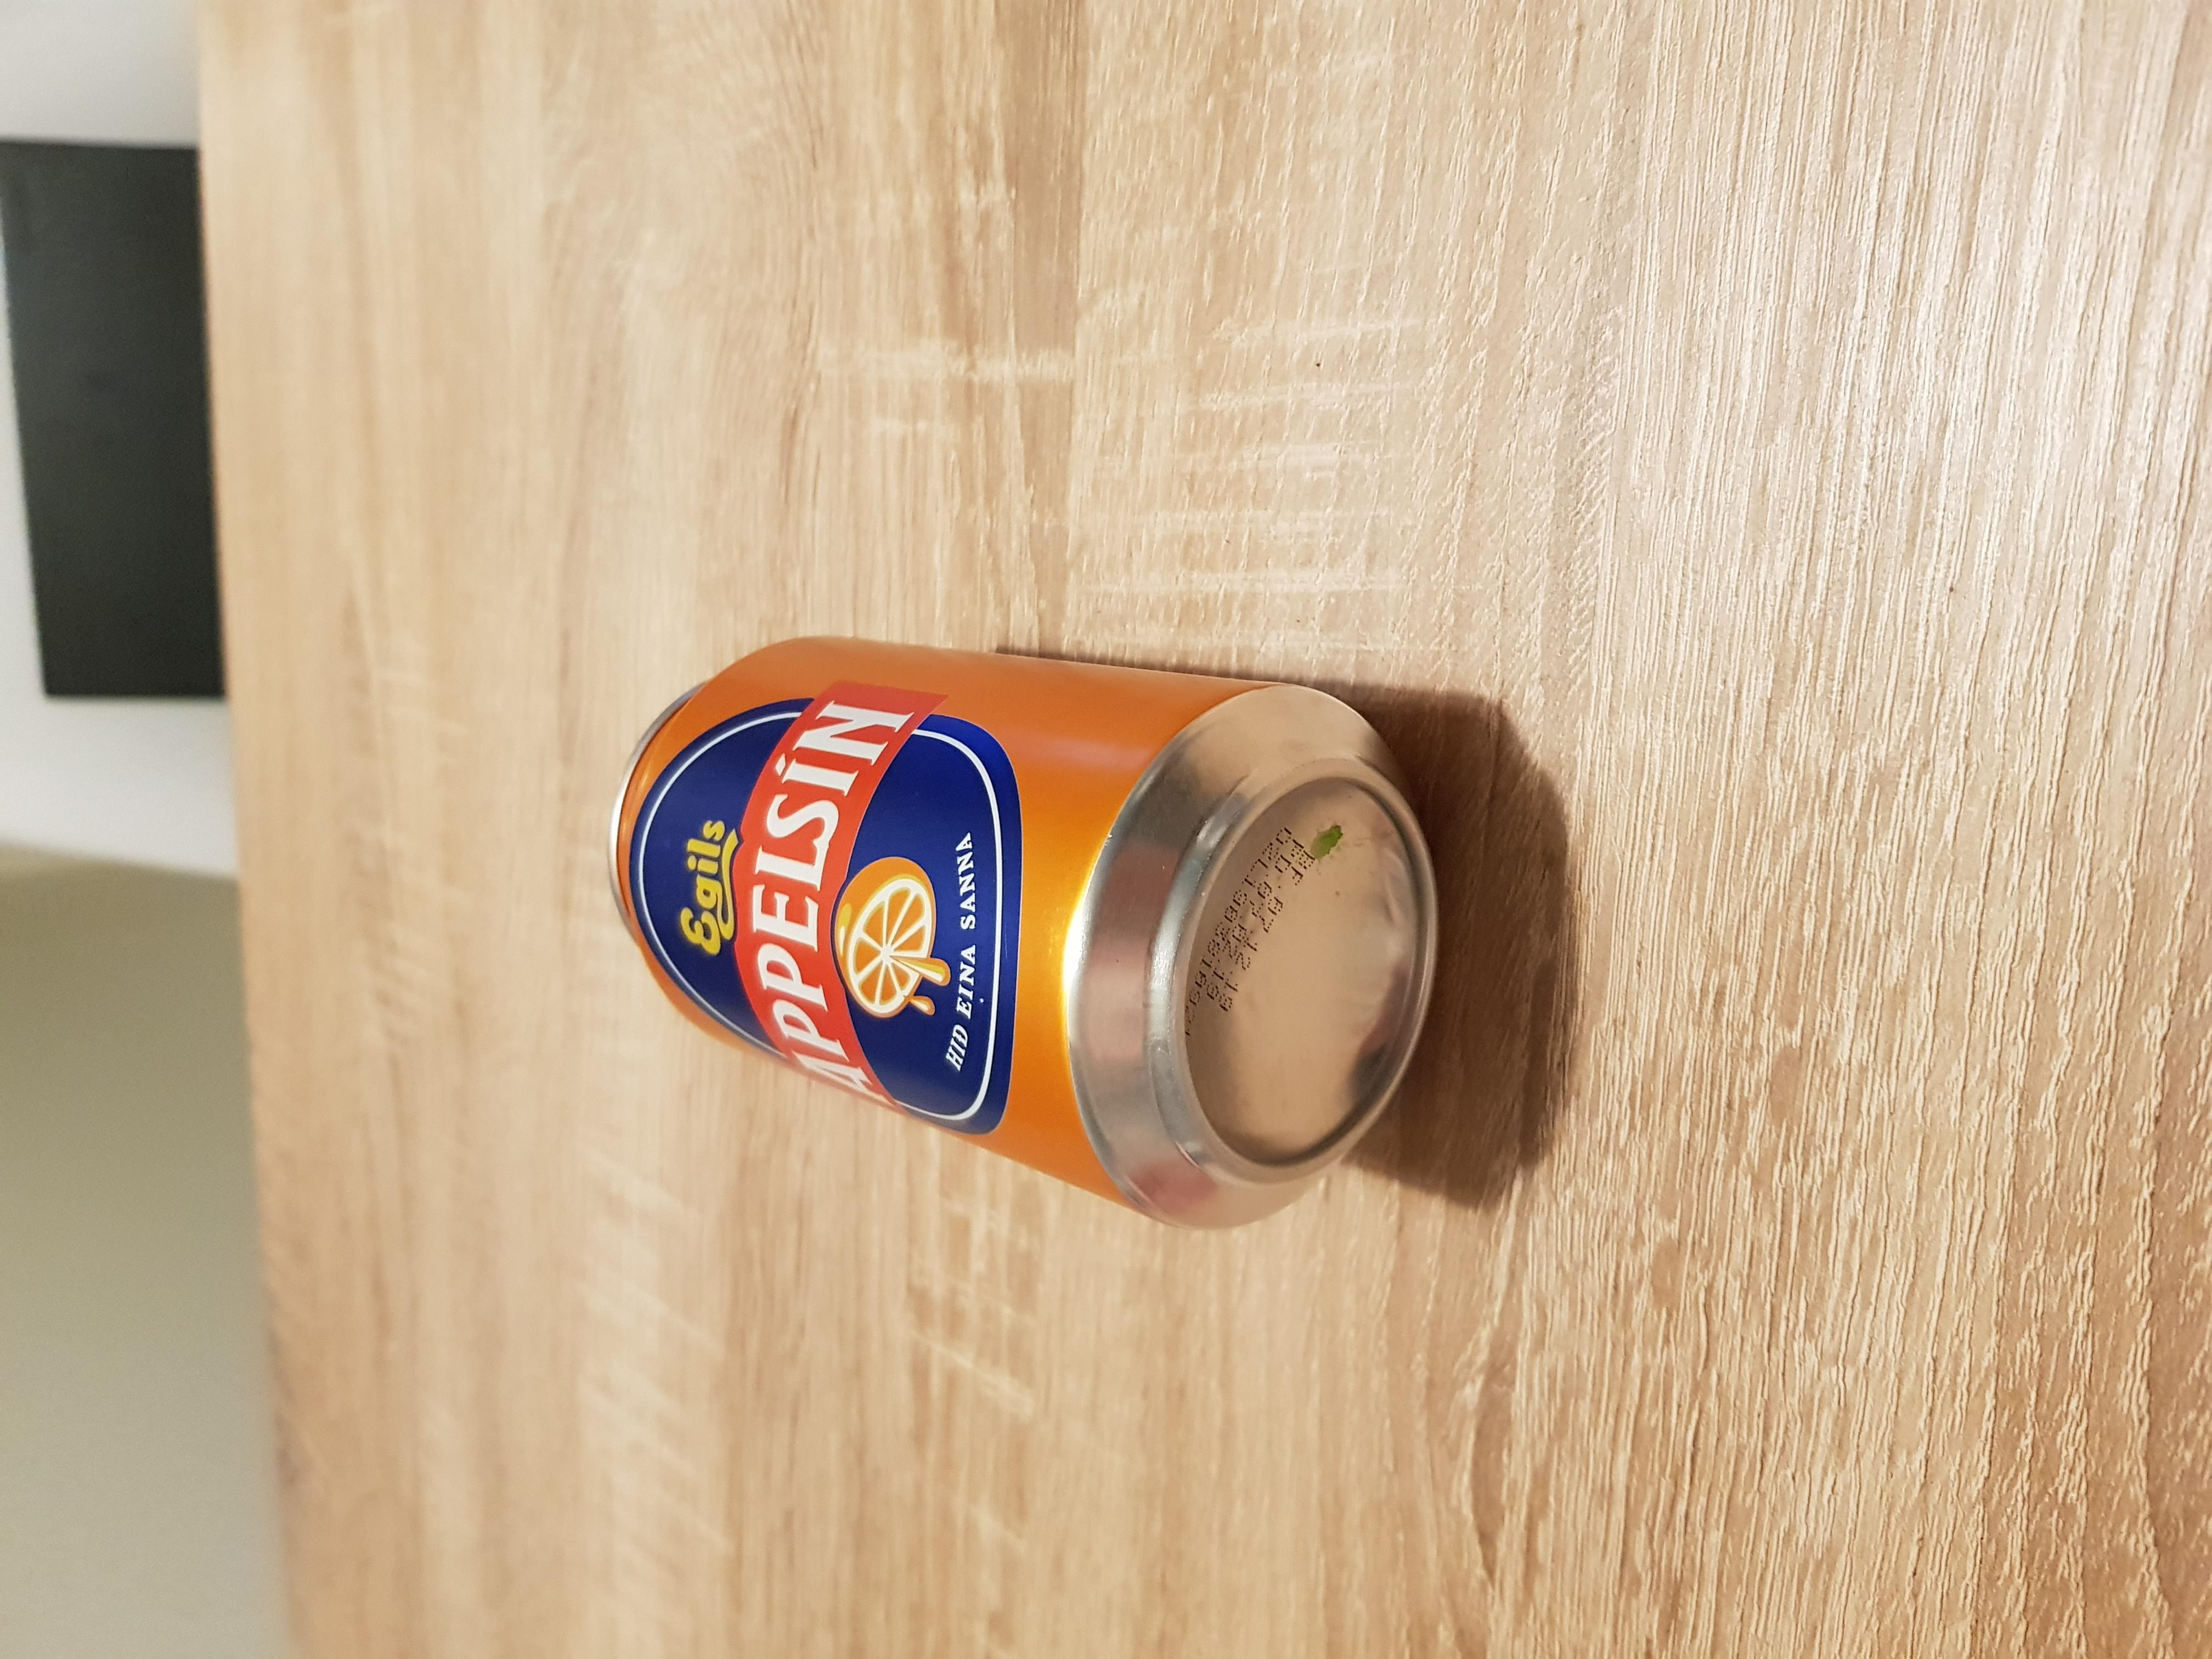Can: (604, 624, 1435, 1222)
